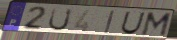2: (23, 6, 48, 31)
4: (72, 9, 92, 33)
I: (103, 10, 116, 35)
M: (139, 12, 173, 38)
U: (46, 7, 74, 32), (119, 11, 147, 35)
